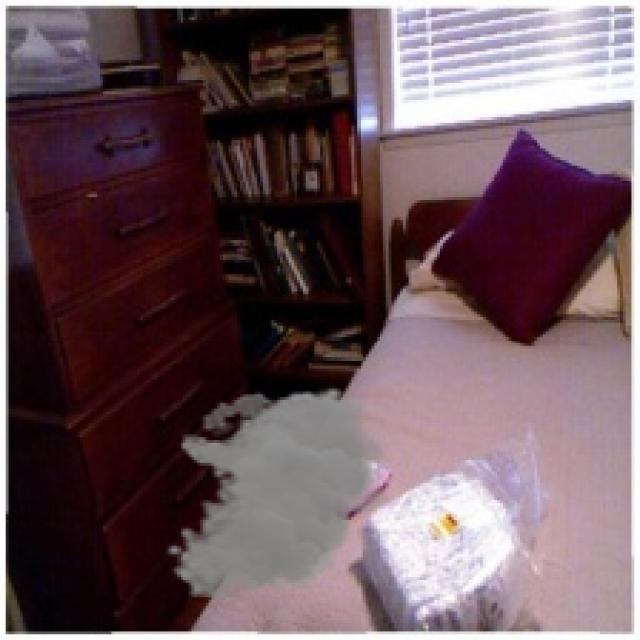smoke: (166, 386, 397, 600)
